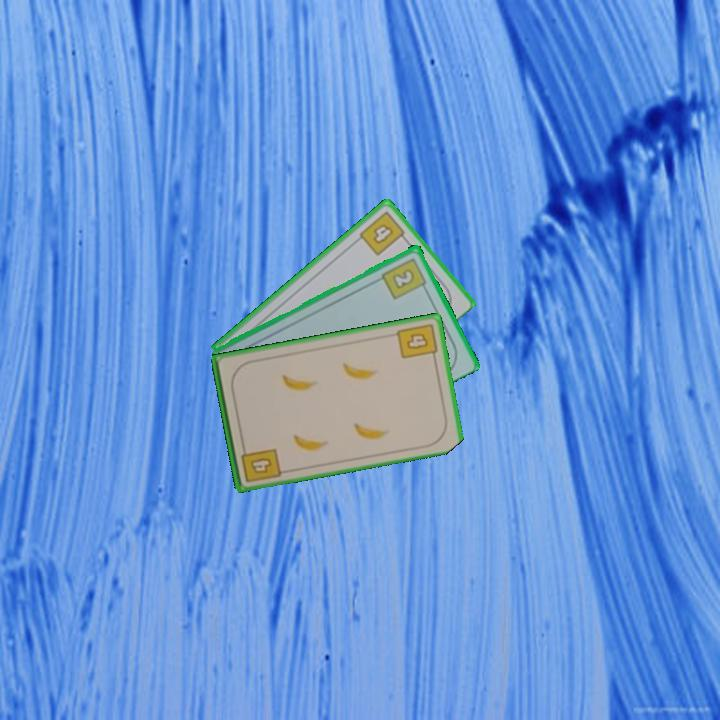2b: (378, 254, 430, 302)
4b: (356, 207, 410, 259), (393, 319, 440, 363), (237, 441, 283, 485)
